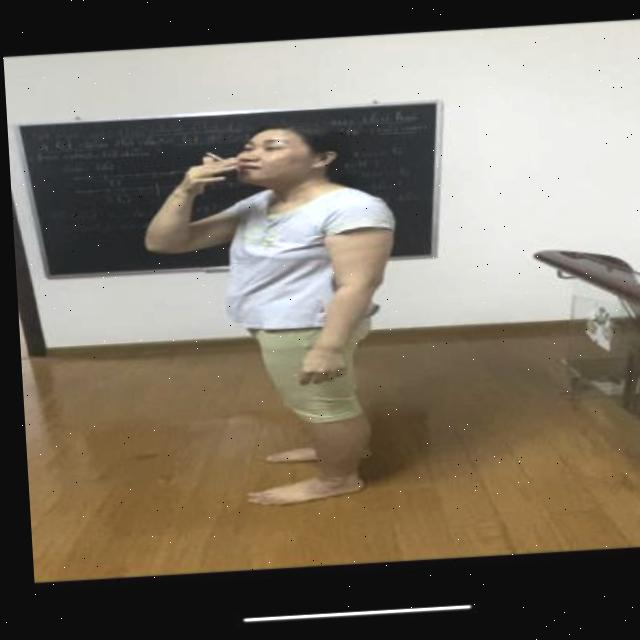cigarette: (201, 151, 225, 165)
